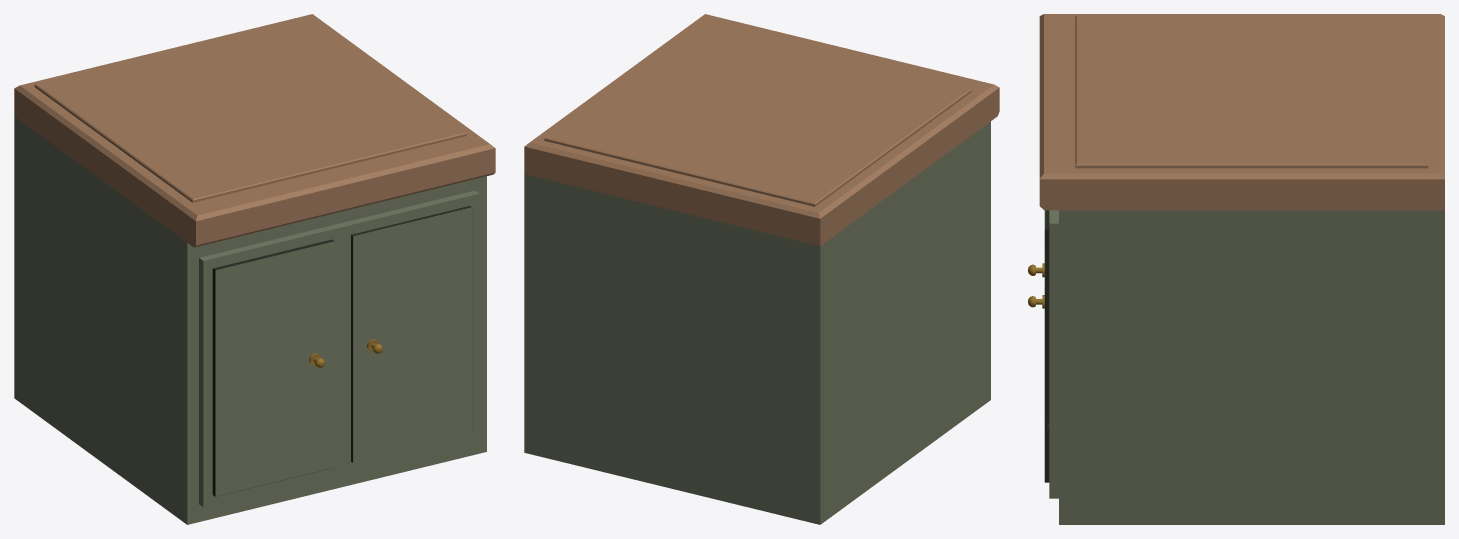
The model's file is Counter.obj.
3 renders of one model, left to right at view 1: azimuth 30°, elevation 25°; view 2: azimuth 150°, elevation 25°; view 3: azimuth 270°, elevation 25°, orthographic. The views are drawn at different scales.
Visible parts, largest first — view 1: Counter_Cooker/Counter; view 2: Counter_Cooker/Counter; view 3: Counter_Cooker/Counter.
Part boxes in pixels (x1,y1,x2,y2): Counter_Cooker/Counter: (14,14,495,524); Counter_Cooker/Counter: (524,14,999,524); Counter_Cooker/Counter: (1028,14,1444,524).
Bounding box in the file's own units: 1 × 1.01 × 1.08.
1 material, 1 textured.
